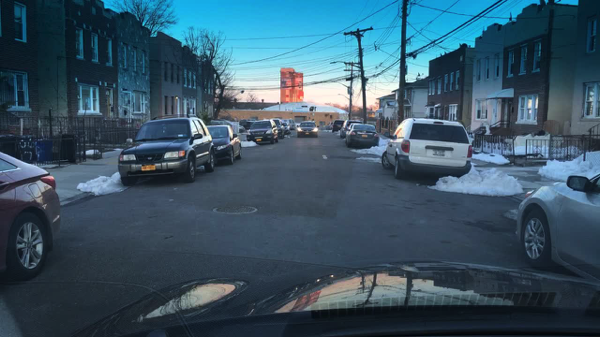car: (515, 173, 599, 285), (0, 151, 60, 279), (118, 114, 215, 186), (381, 118, 476, 179), (206, 125, 244, 164), (246, 119, 280, 145), (345, 124, 380, 149), (339, 121, 363, 139), (297, 120, 317, 138), (274, 118, 284, 141), (282, 118, 296, 130), (332, 120, 343, 132), (282, 121, 291, 135), (325, 122, 332, 131)
